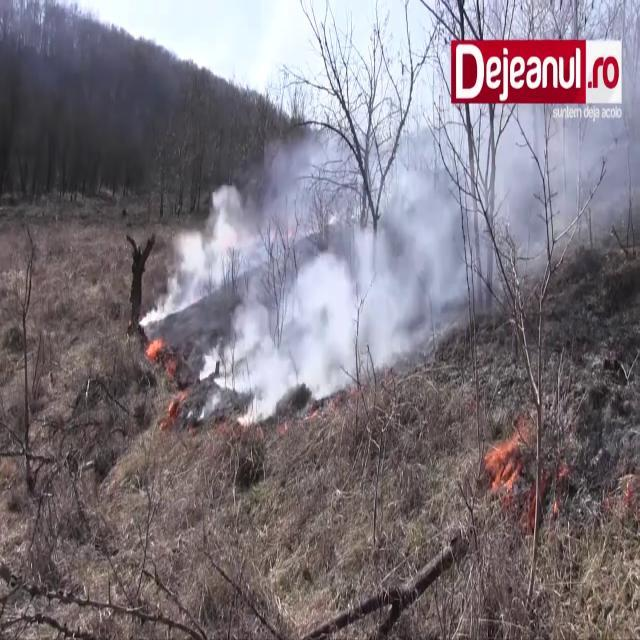Smoke: (162, 20, 638, 414)
